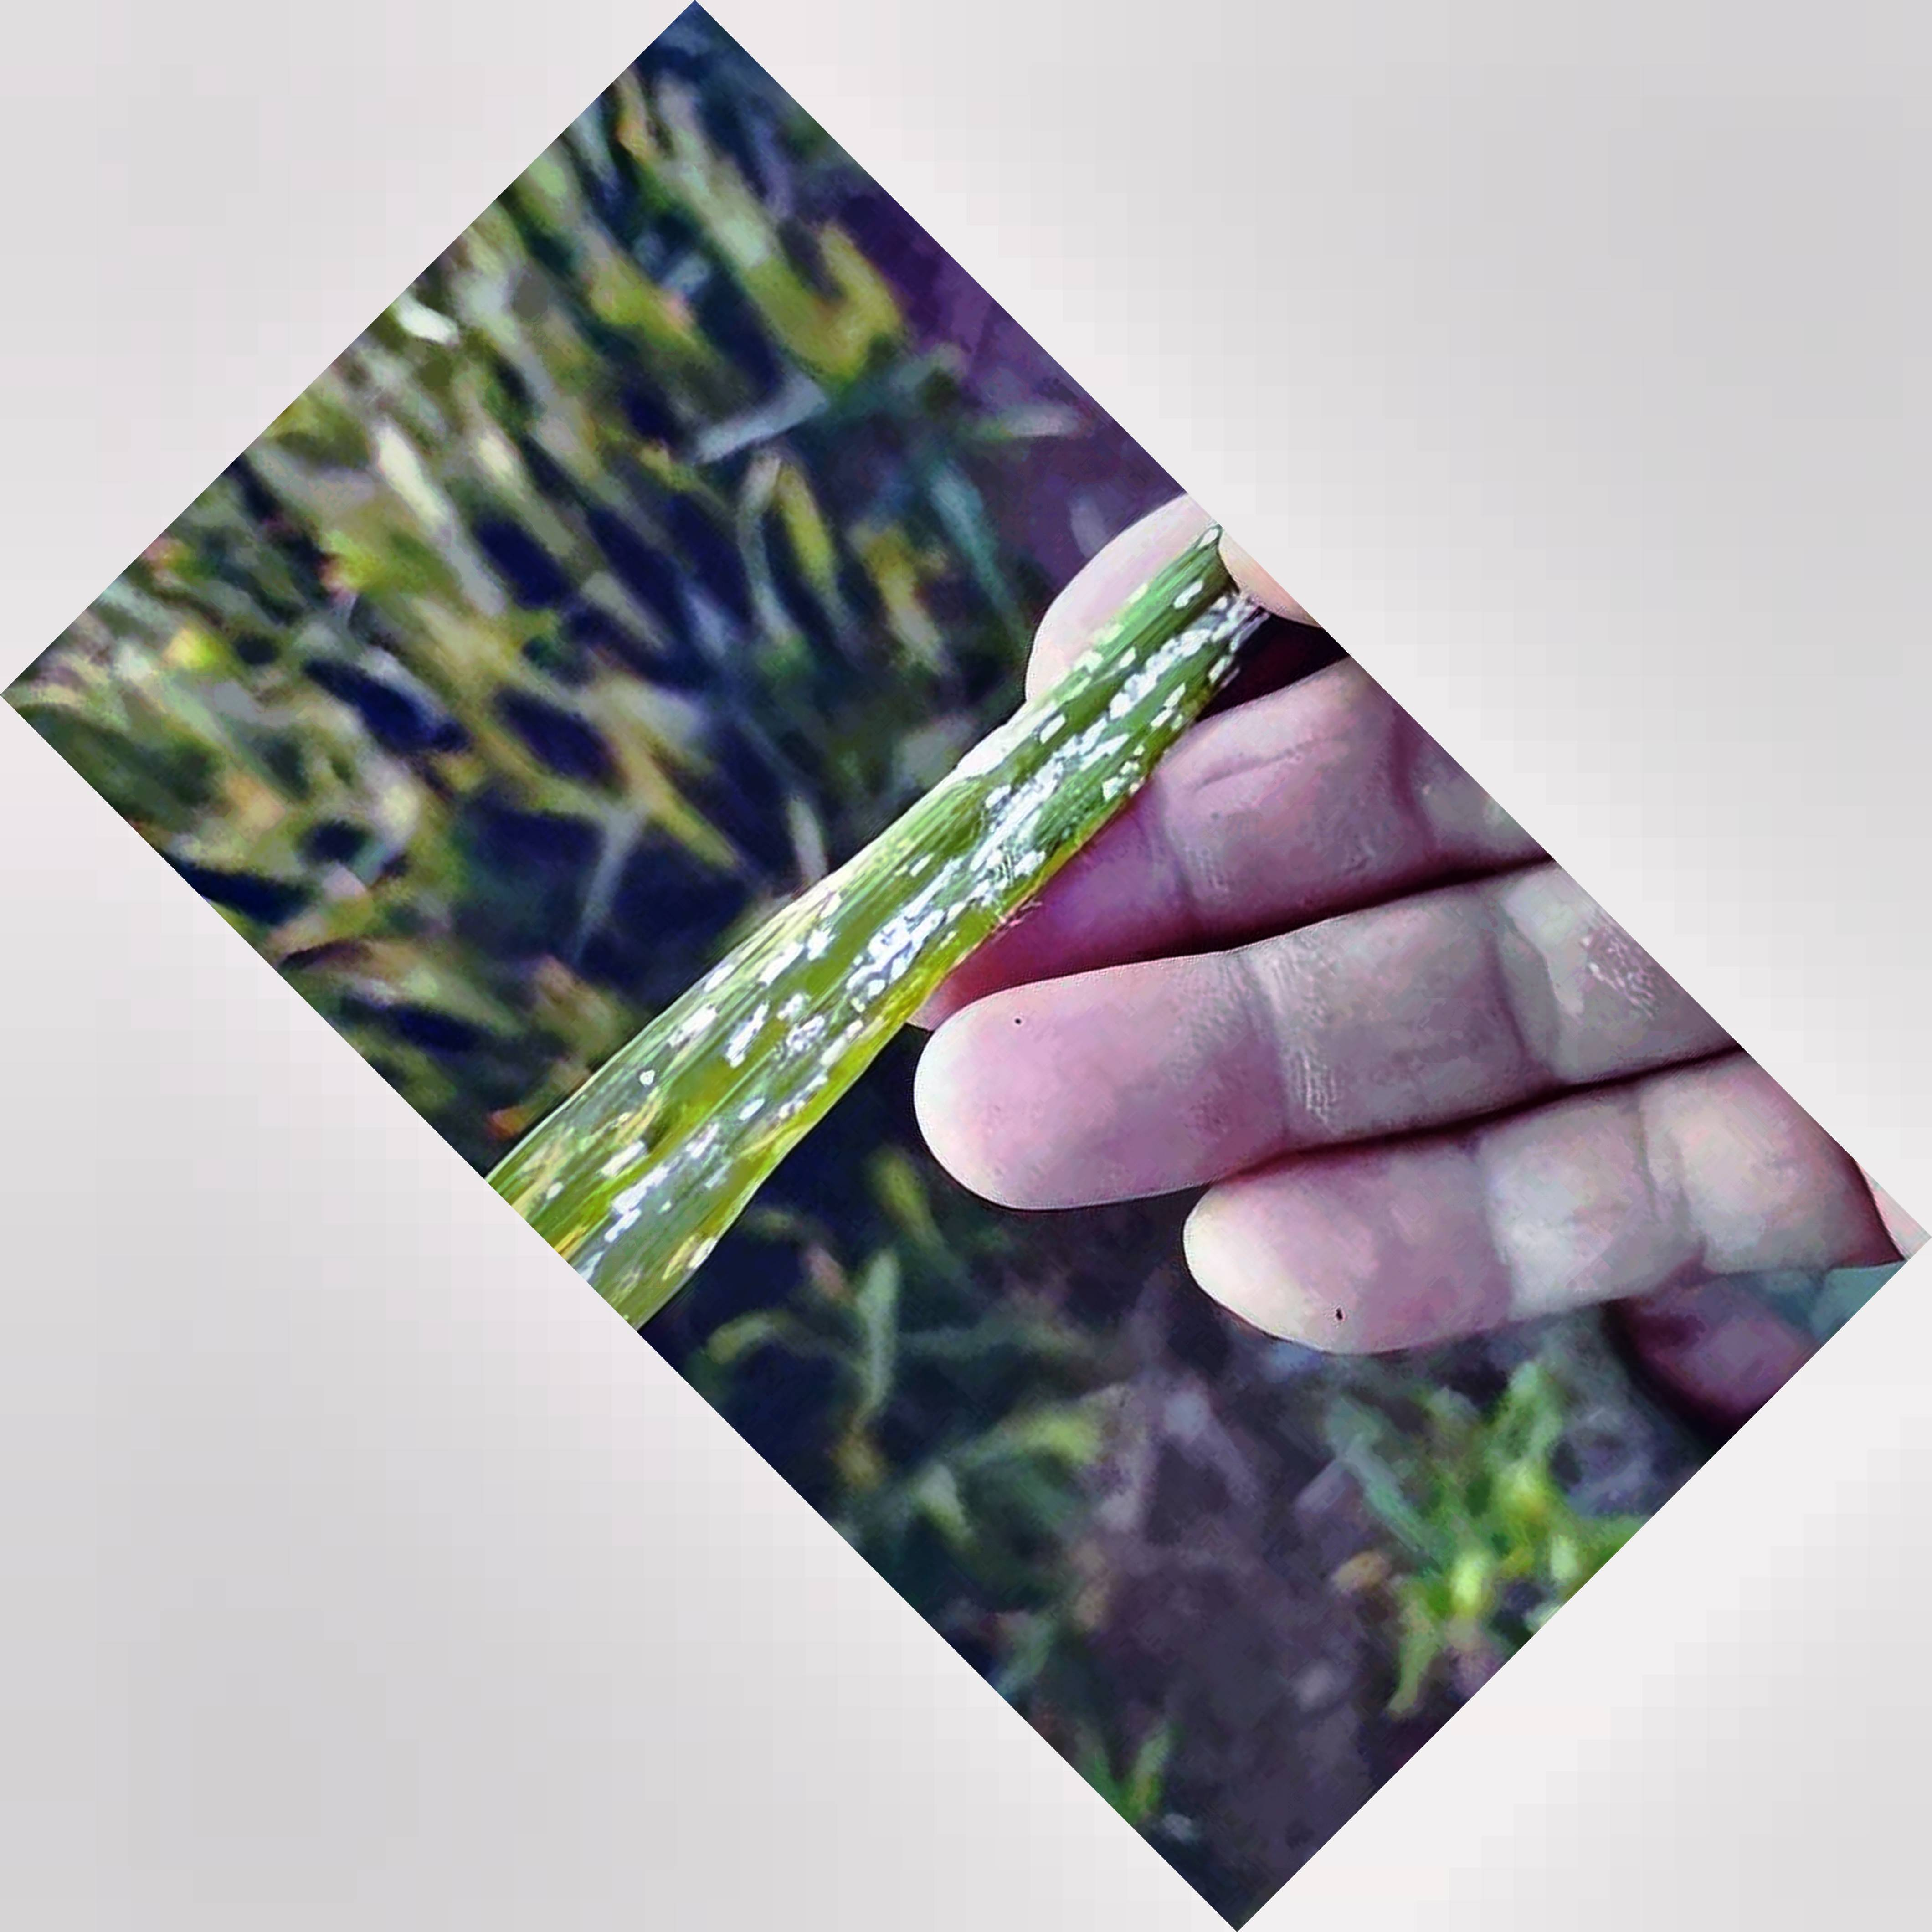Powdery Mildew: (573, 554, 1274, 1292)
